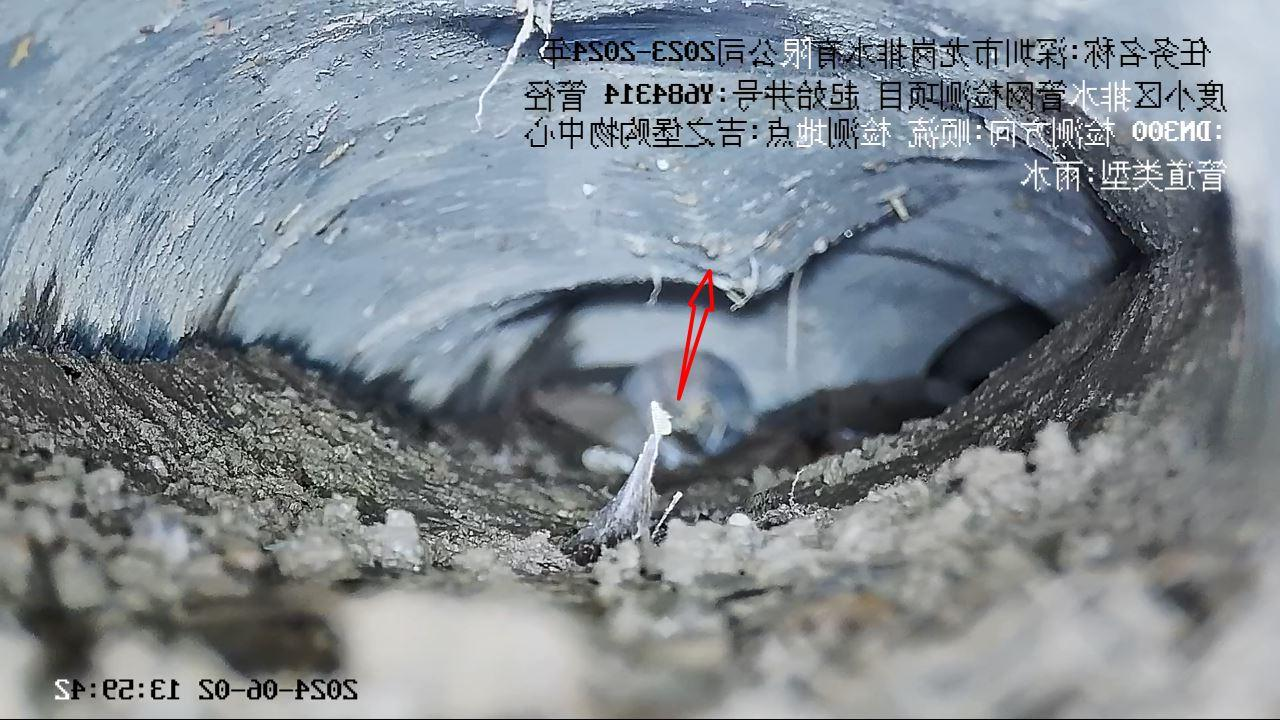BX: (141, 43, 1092, 329)
CJ: (1, 220, 1280, 716)
